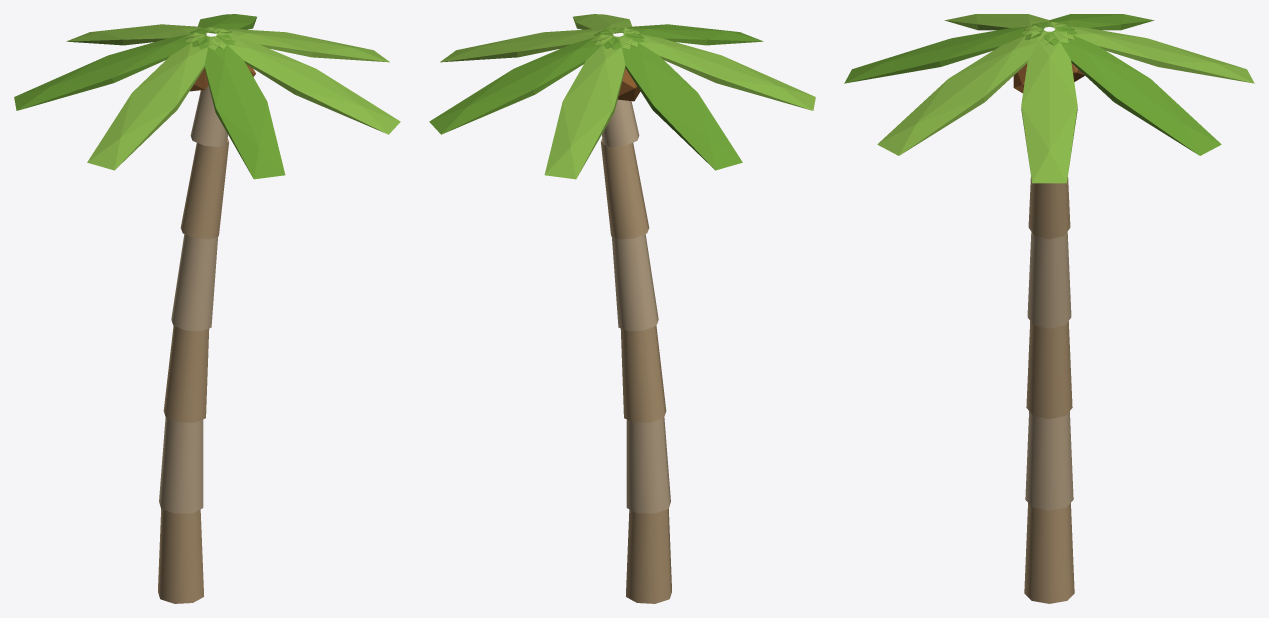
The model's file is palm.glb.
3 renders of one model, left to right at view 1: azimuth 30°, elevation 25°; view 2: azimuth 150°, elevation 25°; view 3: azimuth 270°, elevation 25°, orthographic. The views are drawn at different scales.
Parts seen in each view (by area): view 1: palm_mesh; view 2: palm_mesh; view 3: palm_mesh.
Part boxes in pixels (<box>): palm_mesh: <box>14,14,400,603</box>; palm_mesh: <box>429,14,815,603</box>; palm_mesh: <box>844,14,1254,603</box>.
Size of the model in its own units: 3.02 by 4.83 by 3.1.
